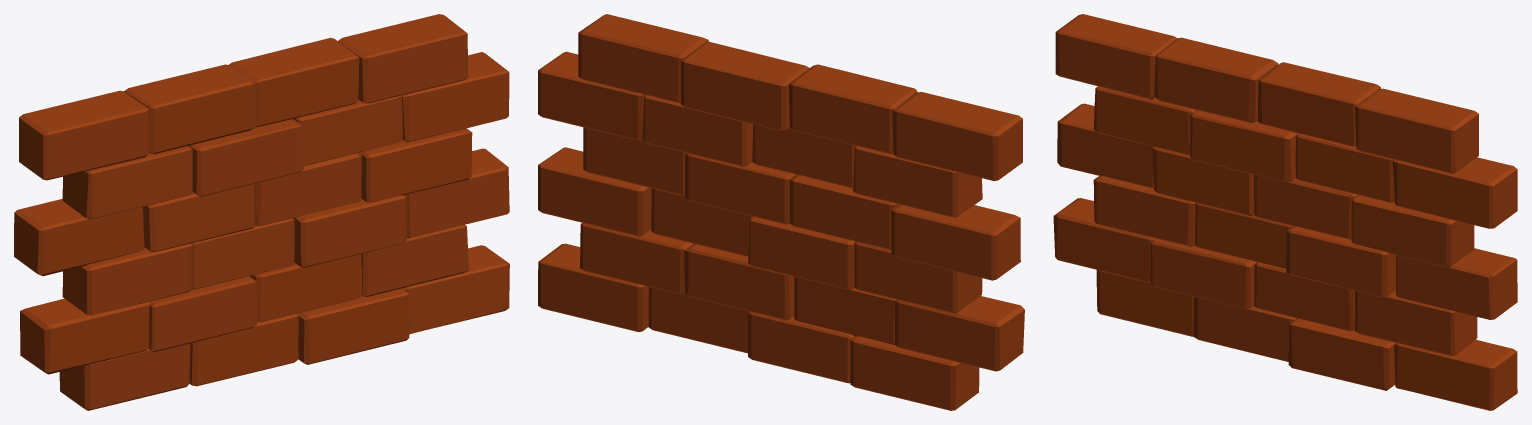
Rendered from walls3.obj.
3 renders of one model, left to right at view 1: azimuth 30°, elevation 25°; view 2: azimuth 150°, elevation 25°; view 3: azimuth 330°, elevation 25°, orthographic. The views are drawn at different scales.
Parts seen in each view (by area): view 1: Cube.005, Cube.002, Cube.004, Cube.003, Cube.020, Cube.012, Cube.016, Cube.008, Cube.007, Cube.022, Cube.006, Cube.014 (+12 smaller); view 2: Cube.005, Cube.003, Cube.012, Cube.004, Cube.002, Cube.020, Cube.013, Cube.024, Cube.021, Cube.008, Cube.006, Cube.018 (+12 smaller); view 3: Cube.002, Cube.004, Cube.005, Cube.003, Cube.006, Cube.021, Cube.013, Cube.009, Cube.007, Cube.022, Cube.014, Cube.017 (+12 smaller).
Boxes of the visible parts, x1,y1,x2,y2 form: Cube.005: (19, 90, 149, 180); Cube.002: (338, 14, 468, 103); Cube.004: (124, 64, 255, 154); Cube.003: (229, 37, 359, 127); Cube.020: (20, 298, 150, 374); Cube.012: (14, 199, 144, 276); Cube.016: (62, 243, 192, 315); Cube.008: (62, 146, 192, 219); Cube.007: (188, 119, 303, 196); Cube.022: (297, 288, 409, 364); Cube.006: (401, 52, 509, 142); Cube.014: (293, 195, 406, 267); Cube.005: (892, 92, 1022, 181); Cube.003: (681, 41, 809, 130); Cube.012: (891, 204, 1020, 280); Cube.004: (789, 64, 917, 153); Cube.002: (578, 14, 708, 102); Cube.020: (894, 296, 1024, 371); Cube.013: (538, 147, 651, 236); Cube.024: (850, 336, 979, 410); Cube.021: (538, 243, 648, 331); Cube.008: (853, 146, 982, 217); Cube.006: (538, 51, 645, 140); Cube.018: (684, 243, 794, 320); Cube.002: (1354, 88, 1478, 173); Cube.004: (1154, 37, 1278, 122); Cube.005: (1055, 14, 1177, 99); Cube.003: (1257, 62, 1380, 146); Cube.006: (1392, 157, 1517, 228); Cube.021: (1394, 339, 1517, 410); Cube.013: (1396, 248, 1517, 319); Cube.009: (1351, 195, 1474, 267); Cube.007: (1190, 110, 1298, 182); Cube.022: (1288, 318, 1395, 390); Cube.014: (1286, 226, 1395, 296); Cube.017: (1354, 290, 1477, 355).
Bounding box in the file's own units: 8.84 × 5.27 × 1.22.
